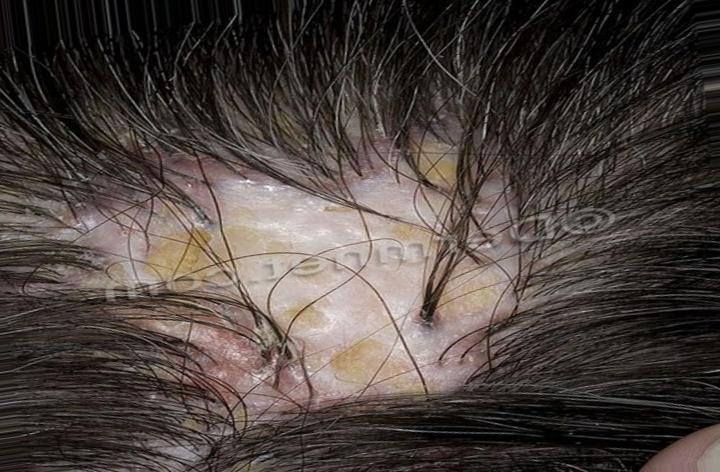Folliculitis: (80, 126, 529, 423)
